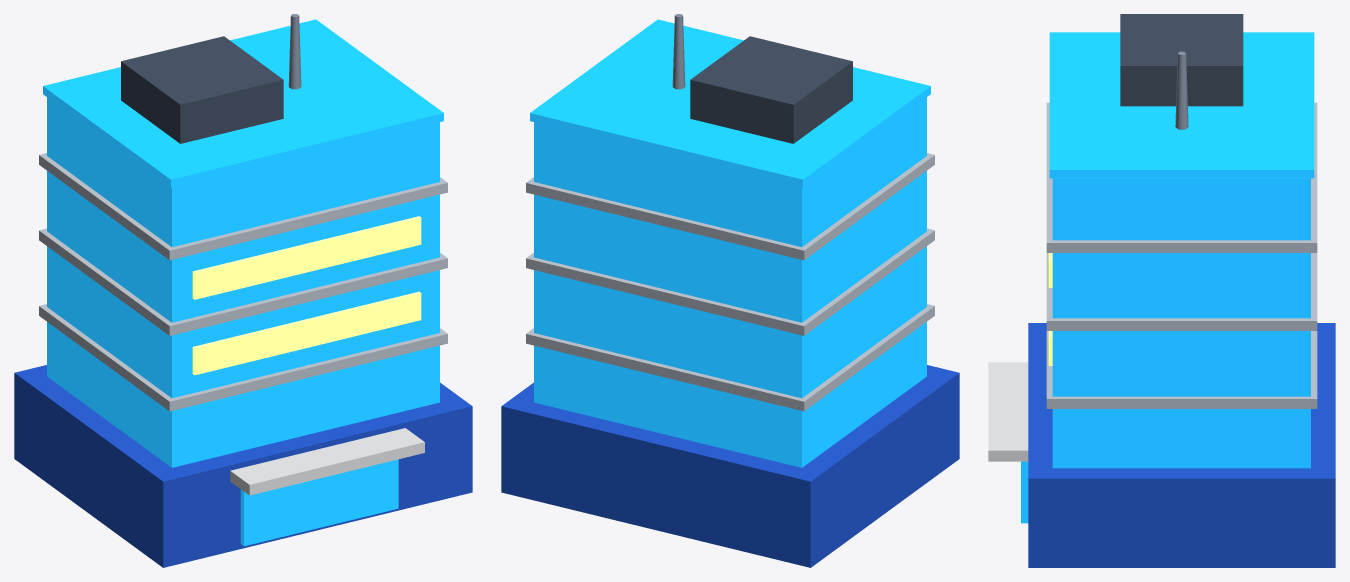
The model's file is building_c2.glb.
The picture shows the model from 3 angles, left to right: view 1: azimuth 30°, elevation 25°; view 2: azimuth 150°, elevation 25°; view 3: azimuth 270°, elevation 25°; orthographic projection. The views are drawn at different scales.
Visible parts, largest first — view 1: BuildingC2; view 2: BuildingC2; view 3: BuildingC2.
Boxes of the visible parts, x1,y1,x2,y2 form: BuildingC2: (14, 14, 472, 567); BuildingC2: (501, 14, 959, 567); BuildingC2: (988, 14, 1335, 567).
Size of the model in its own units: 0.6 by 0.83 by 0.565.
